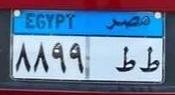8: (13, 41, 31, 76), (33, 42, 50, 76)
9: (51, 38, 67, 75), (69, 41, 85, 77)
Taa: (137, 43, 160, 76), (115, 44, 136, 76)
